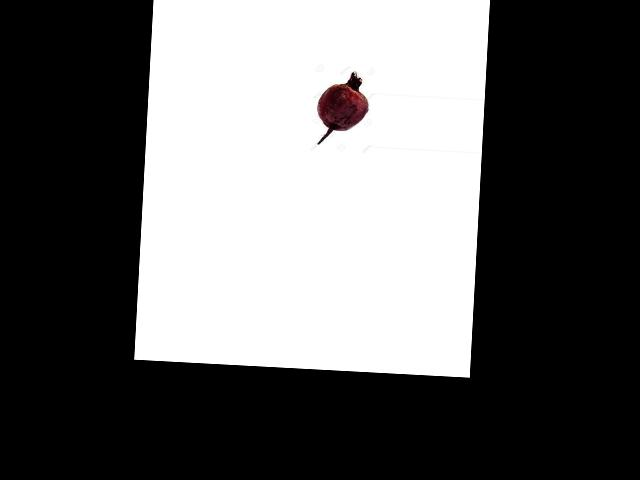beet: (315, 70, 369, 146)
